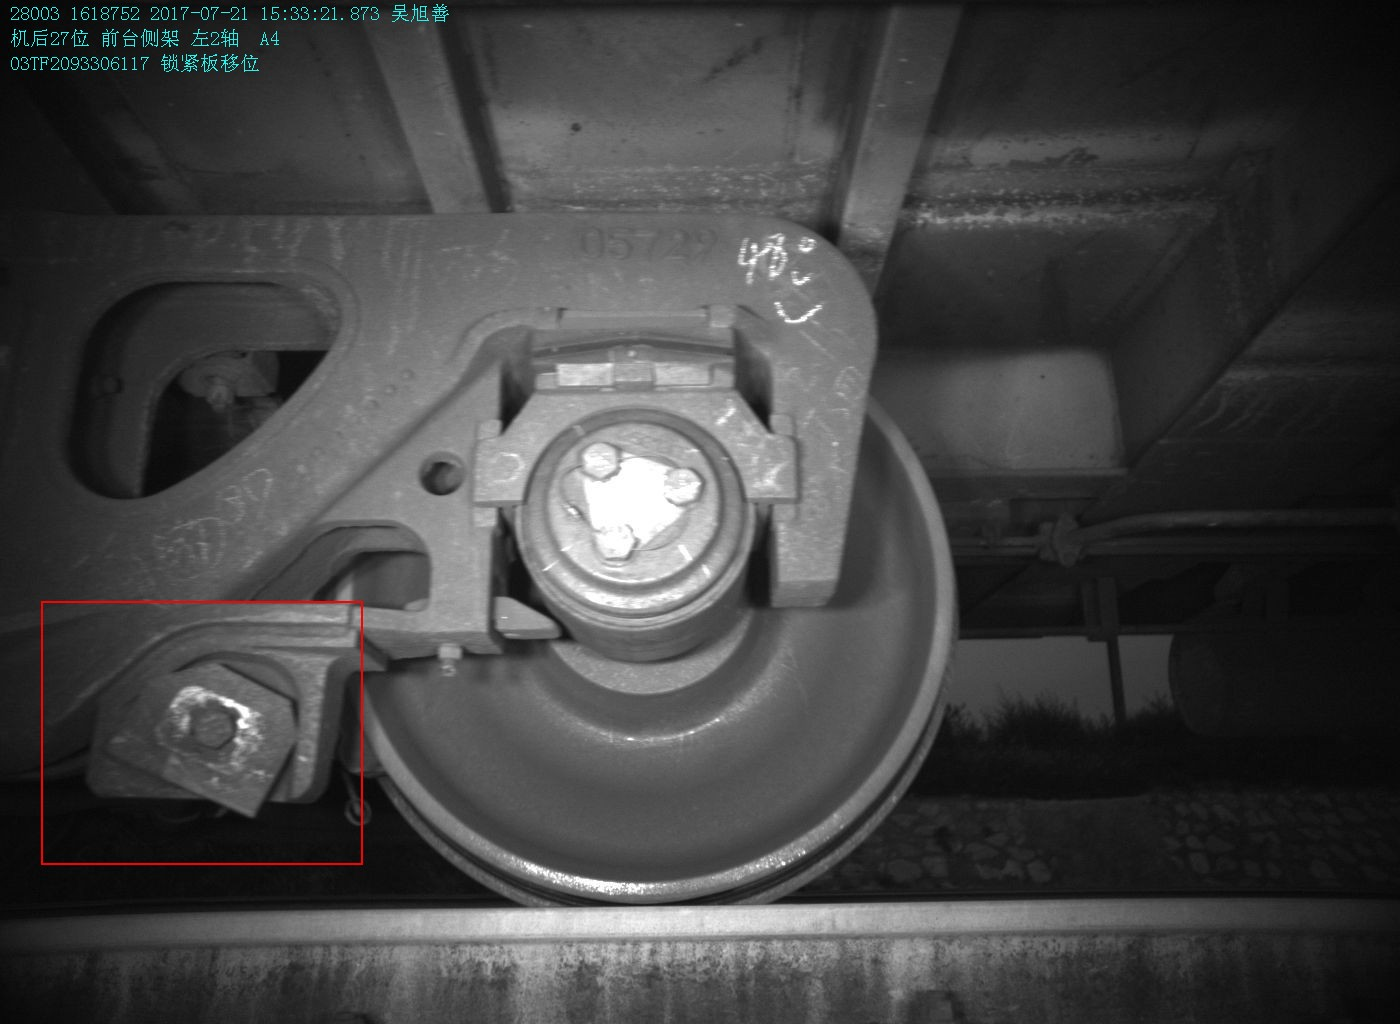Locking plate: (86, 650, 322, 819)
